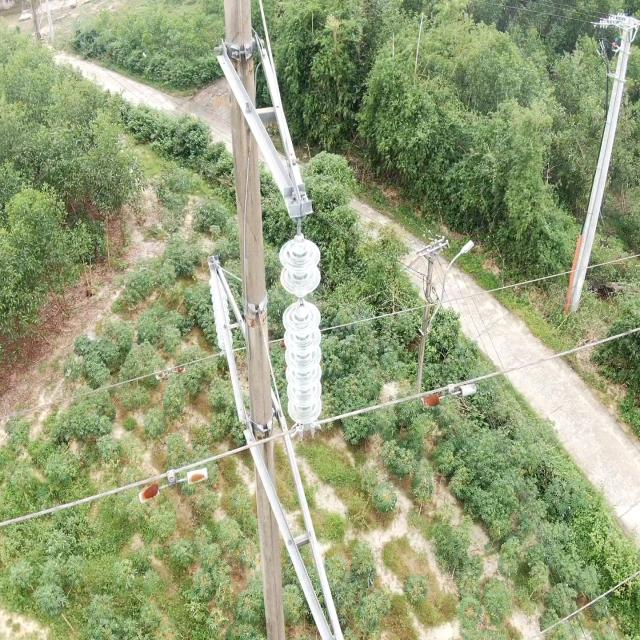杆塔: (200, 7, 356, 640)
正常绝缘子: (276, 232, 330, 436), (205, 252, 238, 357)
绝缘子破损: (297, 296, 305, 306)
